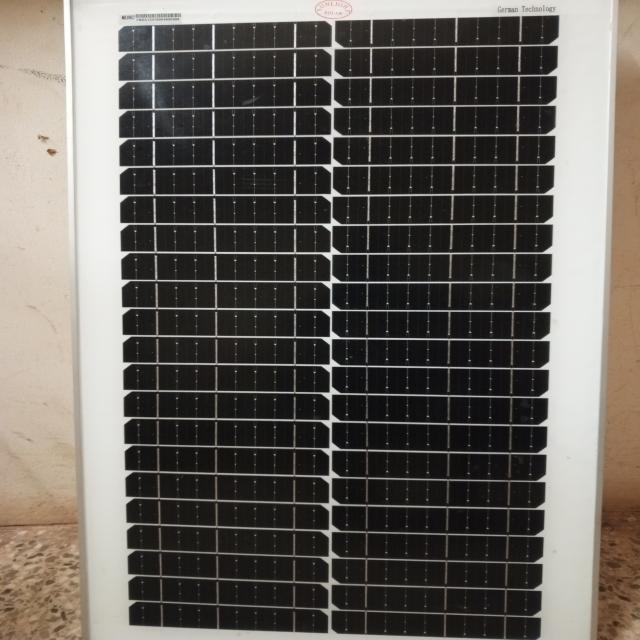Clean: (107, 14, 556, 640)
